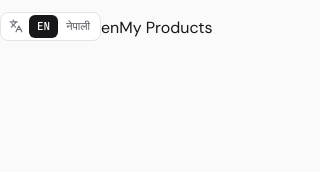
Test: Portfolio Core Flows › switches language between English and Nepali and persists preference
Check: the text with test id "lang-code" reads "en", box [101,17,119,38]
Check: the text with test id "translated-products" reads "My Products", box [119,17,213,38]
Click the button "नेपाली" at [78, 26], box [58,15,98,38]
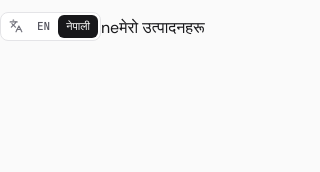
Check: the text with test id "lang-code" reads "ne", box [101,17,119,38]
Check: the text with test id "translated-products" reads "मेरो उत्पादनहरू", box [119,17,205,38]
Click the button "EN" at [44, 26], box [29,15,58,38]
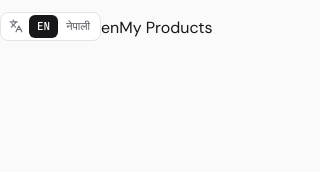
Check: the text with test id "lang-code" reads "en", box [101,17,119,38]
